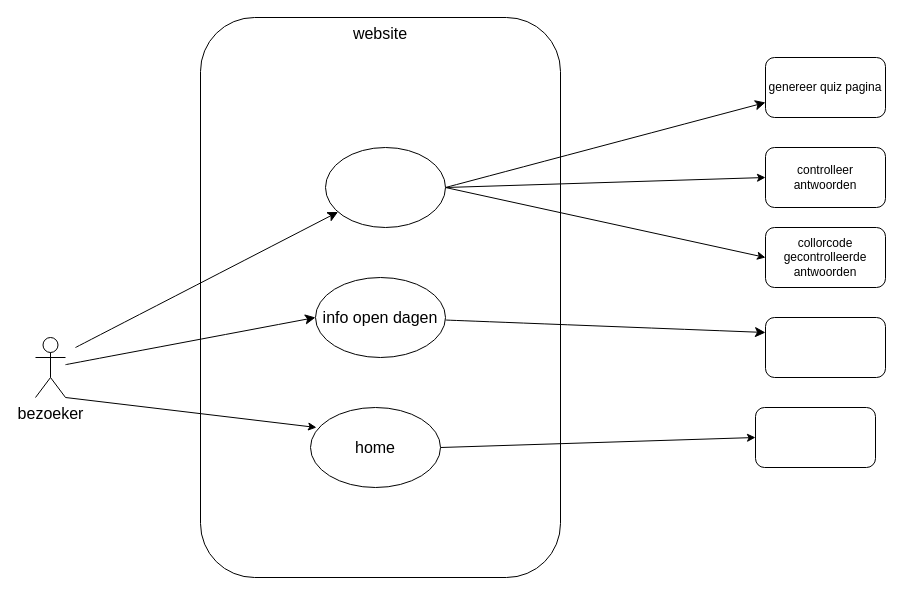
This 903x595 diagram has some shape labels left out. The centre of each missing label's shape, as x and y in pixels:
"begroeting" goes at (815,437).
"countdown" goes at (825,347).
"quiz" goes at (385,187).
